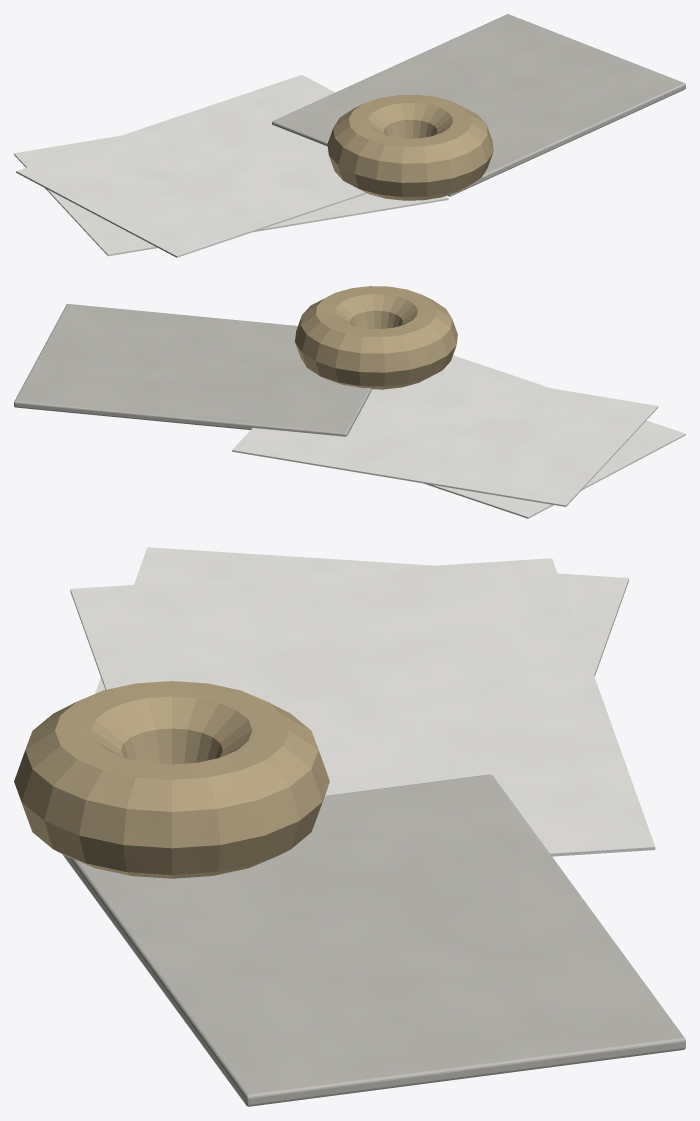
File: PRP_DrawerClutter.fbx
3 renders of one model, top to bottom at view 1: azimuth 30°, elevation 25°; view 2: azimuth 150°, elevation 25°; view 3: azimuth 270°, elevation 25°, orthographic. The views are drawn at different scales.
Visible parts, largest first — view 1: Clutter_Paper_2, Clutter_Newspaper, Clutter_Tape, Clutter_Paper_1; view 2: Clutter_Newspaper, Clutter_Paper_2, Clutter_Tape, Clutter_Paper_1; view 3: Clutter_Newspaper, Clutter_Paper_2, Clutter_Tape, Clutter_Paper_1.
Part boxes in pixels (x1,y1,x2,y2): Clutter_Paper_2: (16, 75, 367, 257); Clutter_Newspaper: (272, 14, 685, 196); Clutter_Tape: (327, 94, 493, 200); Clutter_Paper_1: (14, 135, 448, 256); Clutter_Newspaper: (14, 304, 372, 436); Clutter_Paper_2: (232, 370, 658, 506); Clutter_Tape: (295, 286, 457, 389); Clutter_Paper_1: (424, 355, 685, 518); Clutter_Newspaper: (62, 774, 685, 1106); Clutter_Paper_2: (70, 558, 655, 856); Clutter_Tape: (14, 681, 329, 878); Clutter_Paper_1: (95, 547, 628, 693).
Size of the model in its own units: 40.08 by 3.51 by 20.42.
